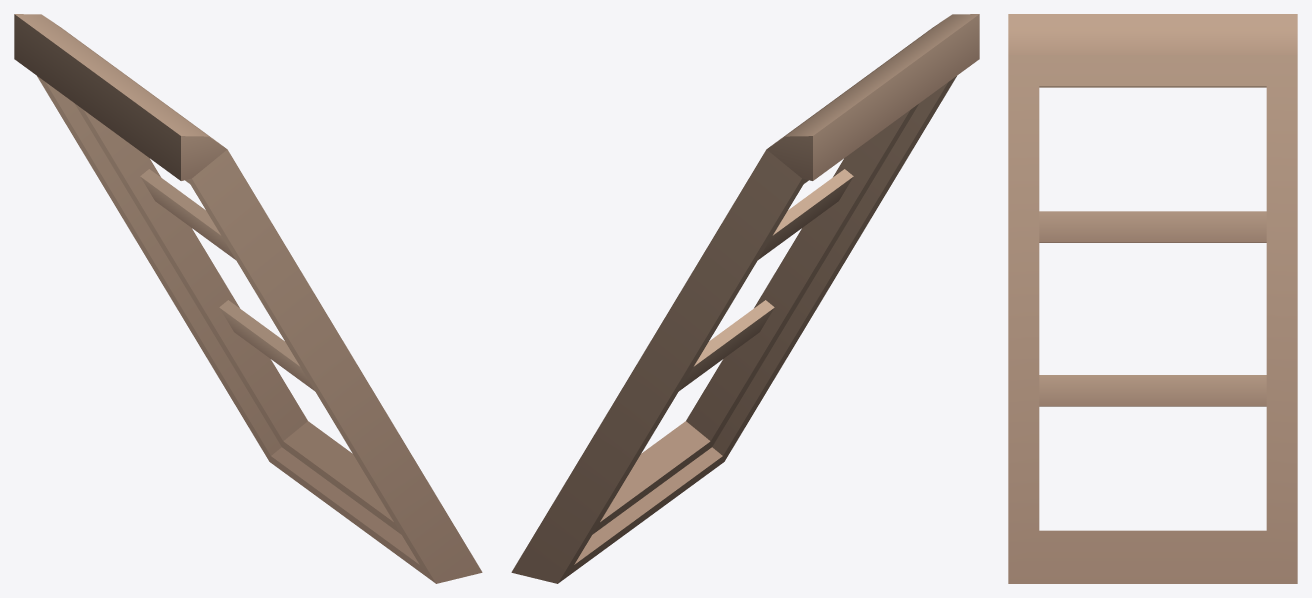
Rendered from roof-steep-window-double.glb.
3 views of the same model, side by side, from view 1: azimuth 30°, elevation 25°; view 2: azimuth 150°, elevation 25°; view 3: azimuth 270°, elevation 25° (orthographic). The views are drawn at different scales.
Visible parts, largest first — view 1: roof-steep-window-double; view 2: roof-steep-window-double; view 3: roof-steep-window-double.
Part boxes in pixels (<box>): roof-steep-window-double: <box>14,14,482,583</box>; roof-steep-window-double: <box>511,14,979,583</box>; roof-steep-window-double: <box>1008,14,1297,583</box>.
Size of the model in its own units: 0.9746 by 1.57 by 0.9333.
